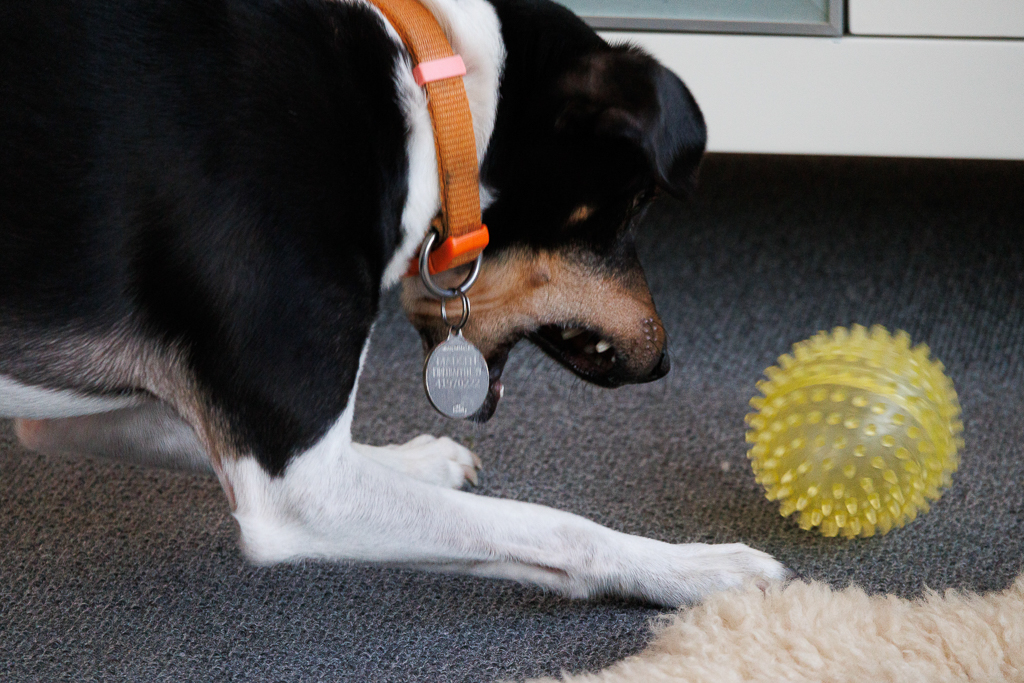Dog: (0, 0, 815, 622)
